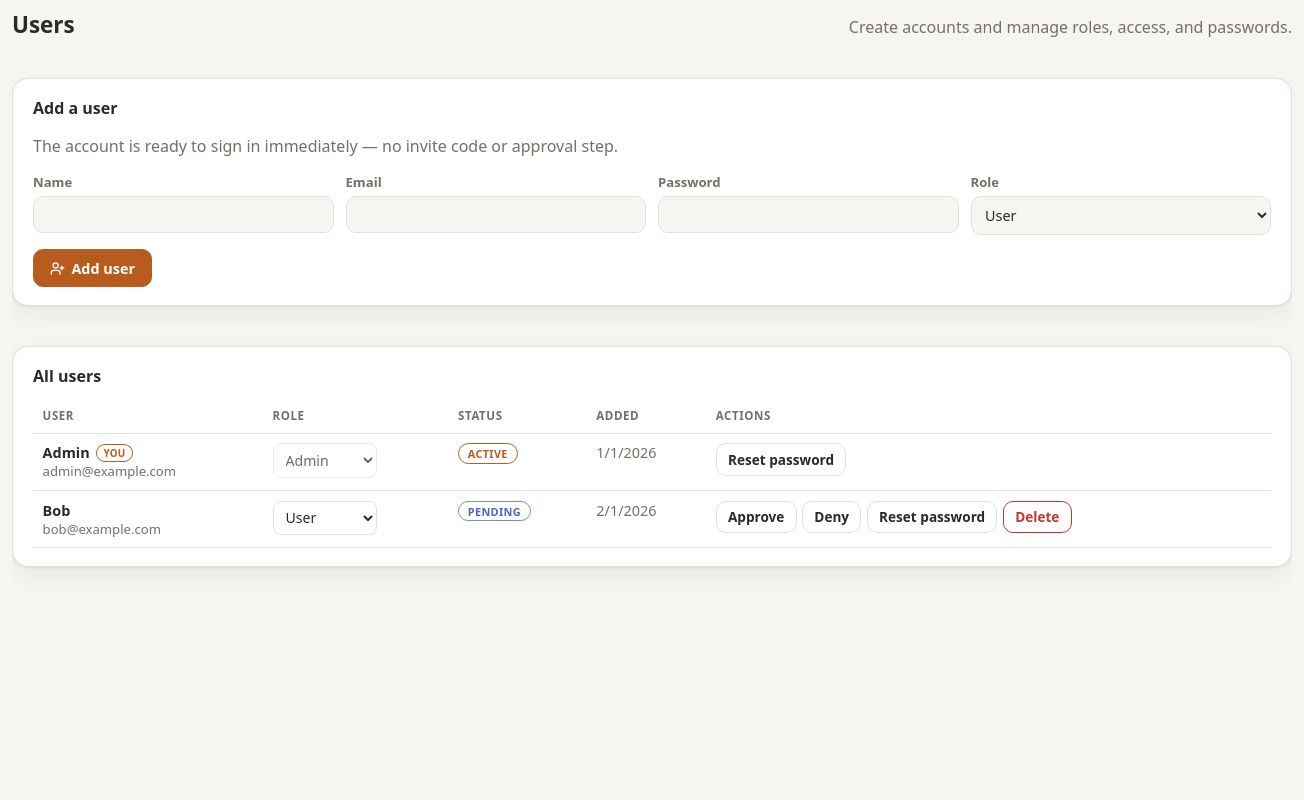
AdminPage › surfaces a create error from the API
This screenshot has width=1304, height=800.
Expected: the text "bob@example.com" is shown, x1=43 y1=520 x2=161 y2=538
Type "Dup" into the field labelled "Name" at (183, 215), box x1=33 y1=196 x2=334 y2=233
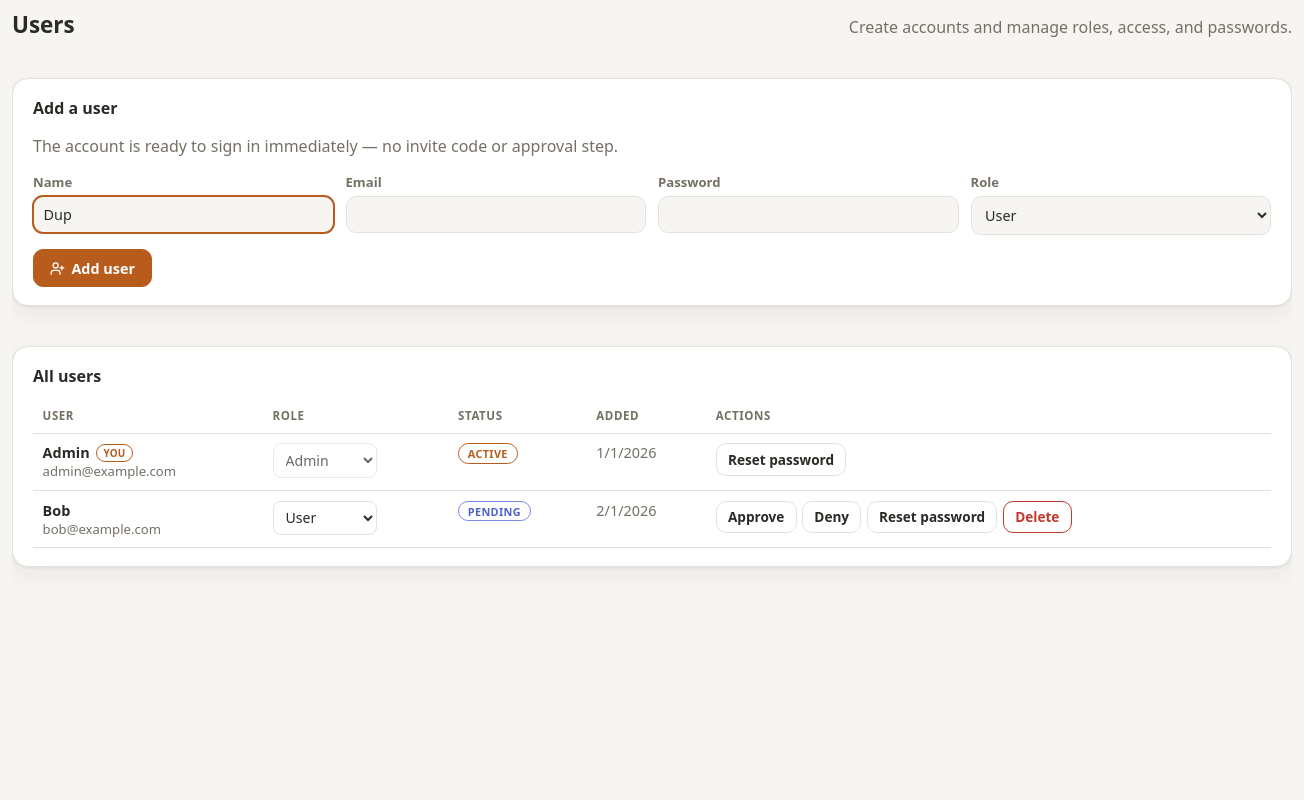
Type "bob@example.com" into the field labelled "Email" at (496, 215), box x1=346 y1=196 x2=646 y2=233
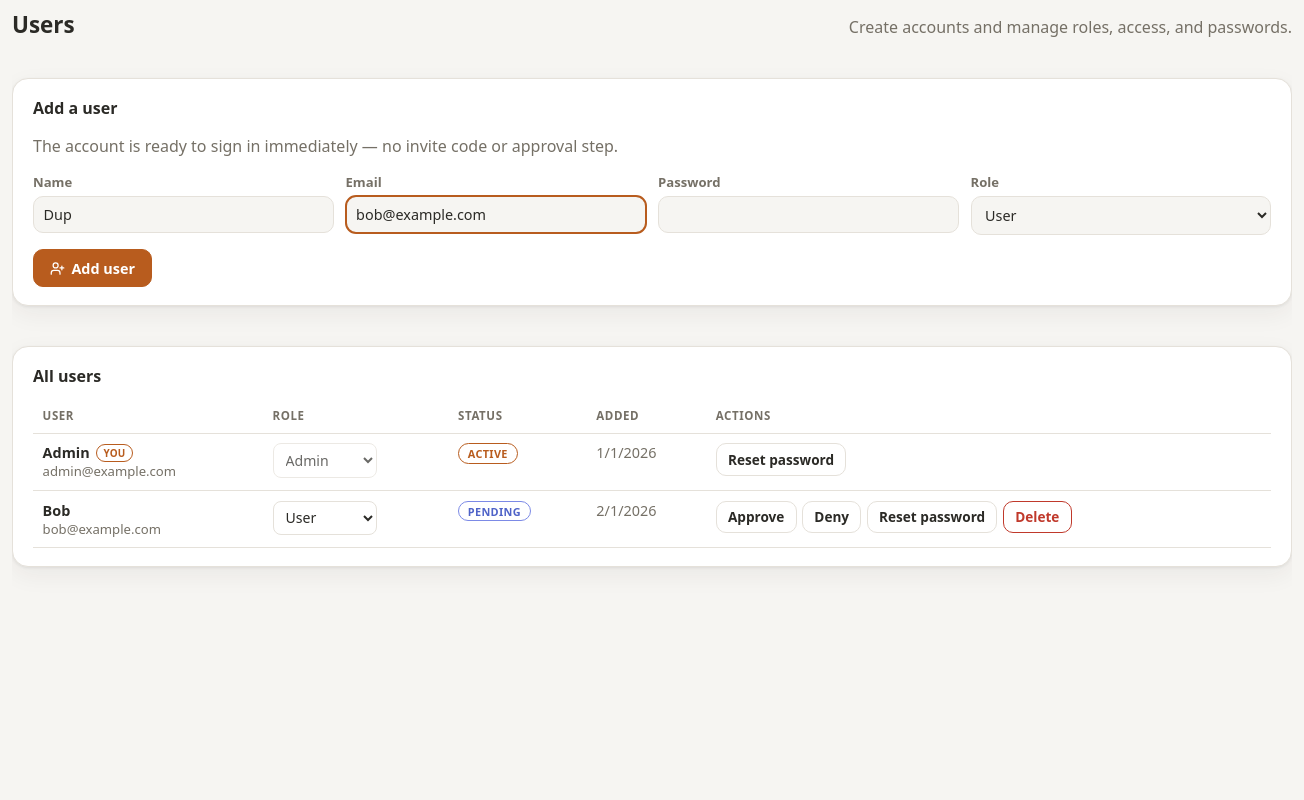
Type "password123" into the password field labelled "Password" at (808, 215), box x1=658 y1=196 x2=958 y2=233
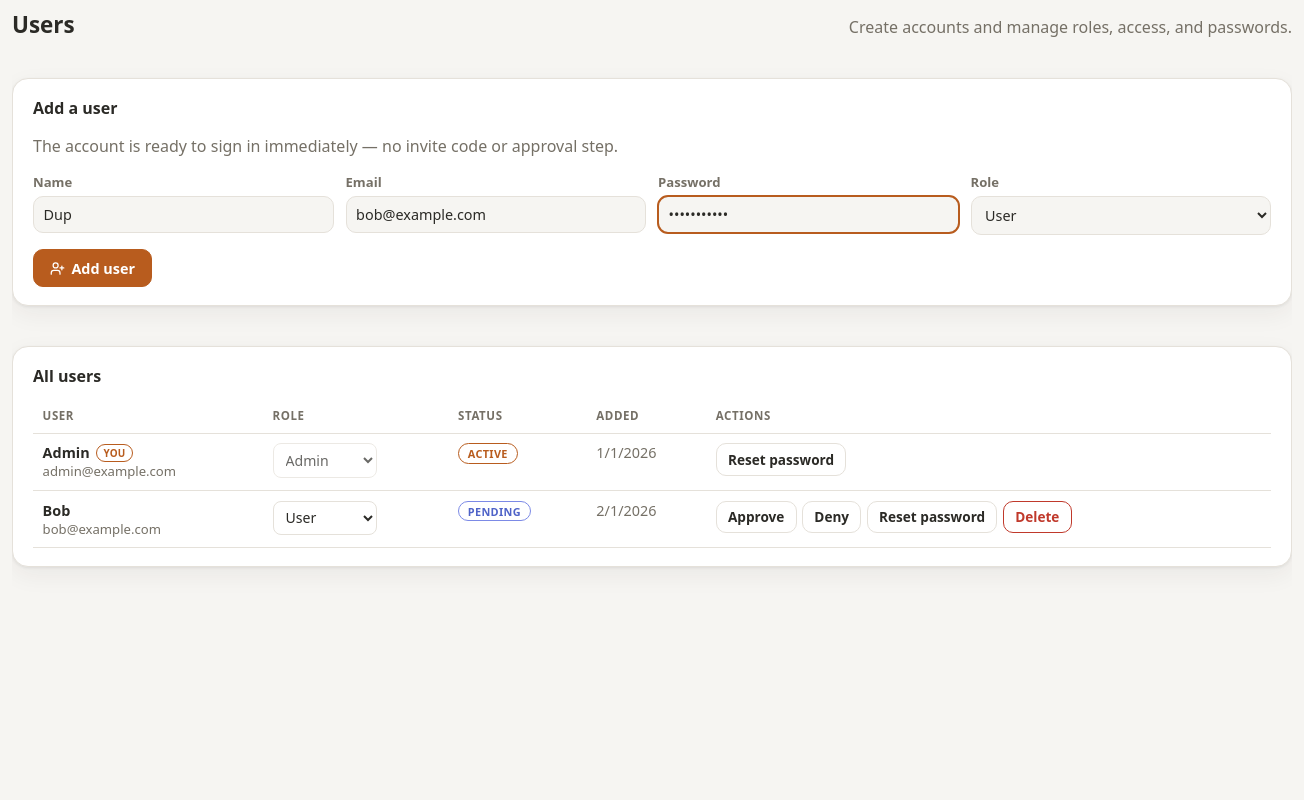
Click the button "Add user" at (92, 268), box x1=33 y1=249 x2=152 y2=287
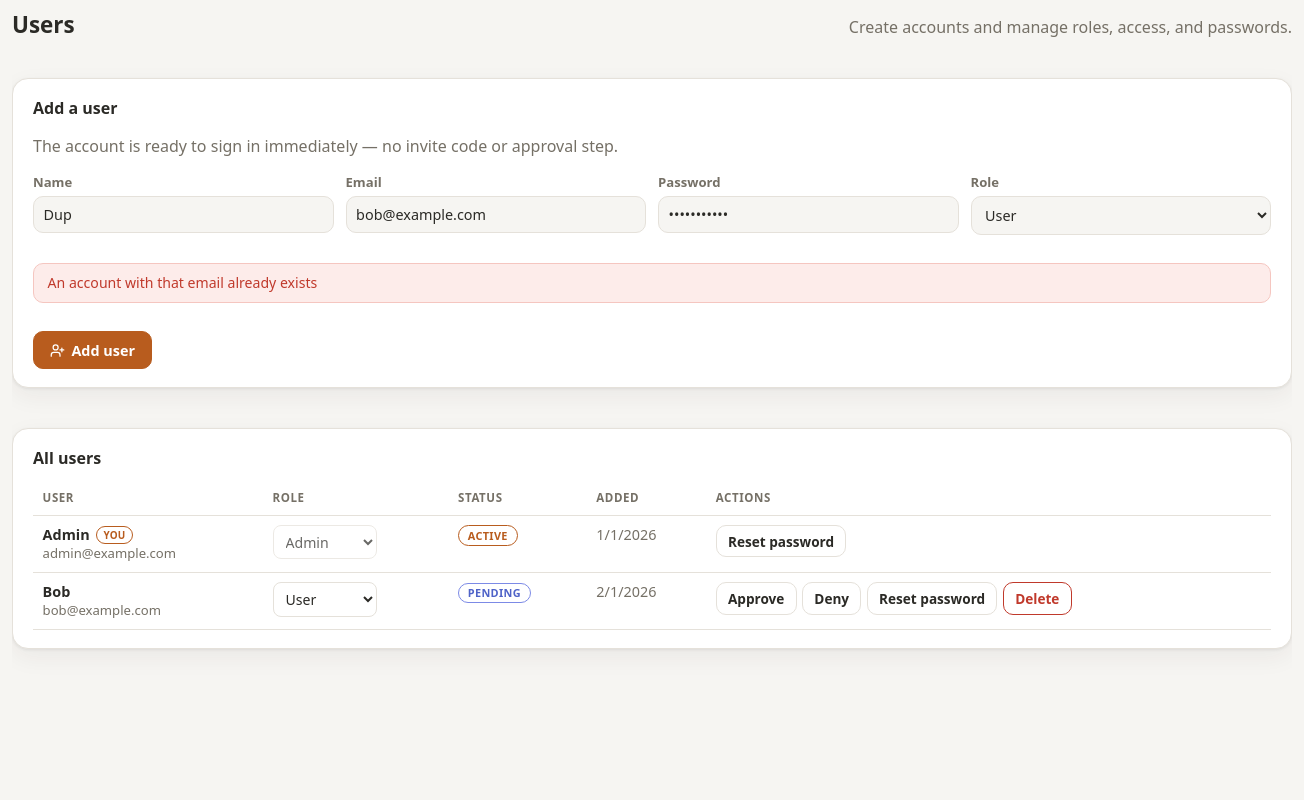
Expected: the message reads "An account with that email already exists", x1=48 y1=274 x2=317 y2=292
